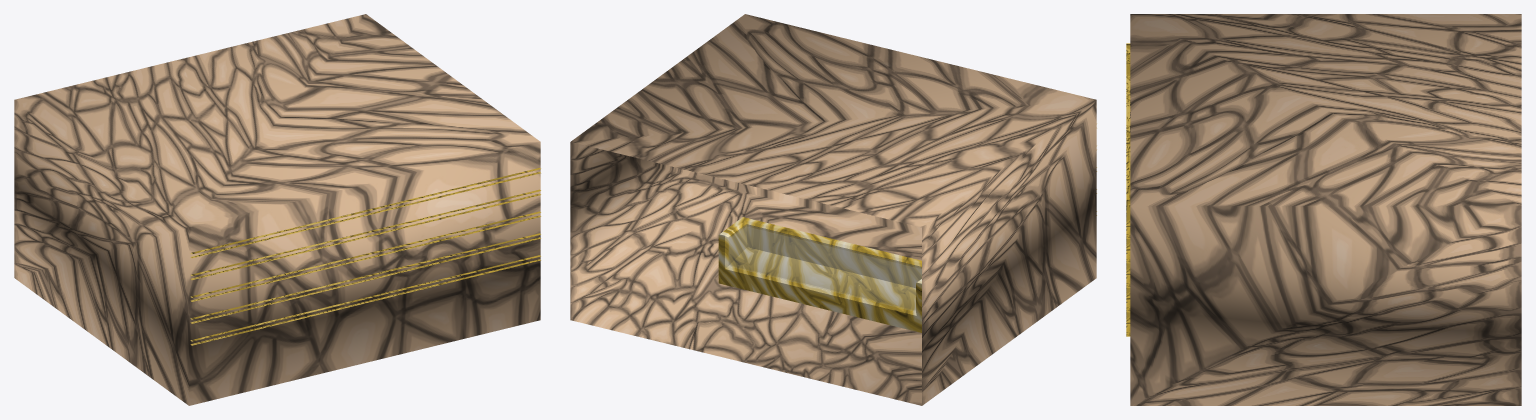
File: shopWithTexturesDuece.fbx
The picture shows the model from 3 angles, left to right: view 1: azimuth 30°, elevation 25°; view 2: azimuth 150°, elevation 25°; view 3: azimuth 270°, elevation 25°; orthographic projection. The views are drawn at different scales.
Parts seen in each view (by area): view 1: storeRoomWalls, shelf2, shelf3, shelf, shelf4, shelf1; view 2: storeRoomWalls, counterBase, counterGlass; view 3: storeRoomWalls, shelf.
Part boxes in pixels (x1,y1,x2,y2): storeRoomWalls: (14,14,540,405); shelf2: (190,211,540,301); shelf3: (190,233,540,323); shelf: (190,168,540,258); shelf4: (190,255,540,345); shelf1: (190,189,540,279); storeRoomWalls: (570,14,1096,405); counterBase: (718,217,921,332); counterGlass: (728,225,921,311); storeRoomWalls: (1130,14,1521,405); shelf: (1126,43,1130,238).
Size of the model in its own units: 33.71 by 16.38 by 29.3.
